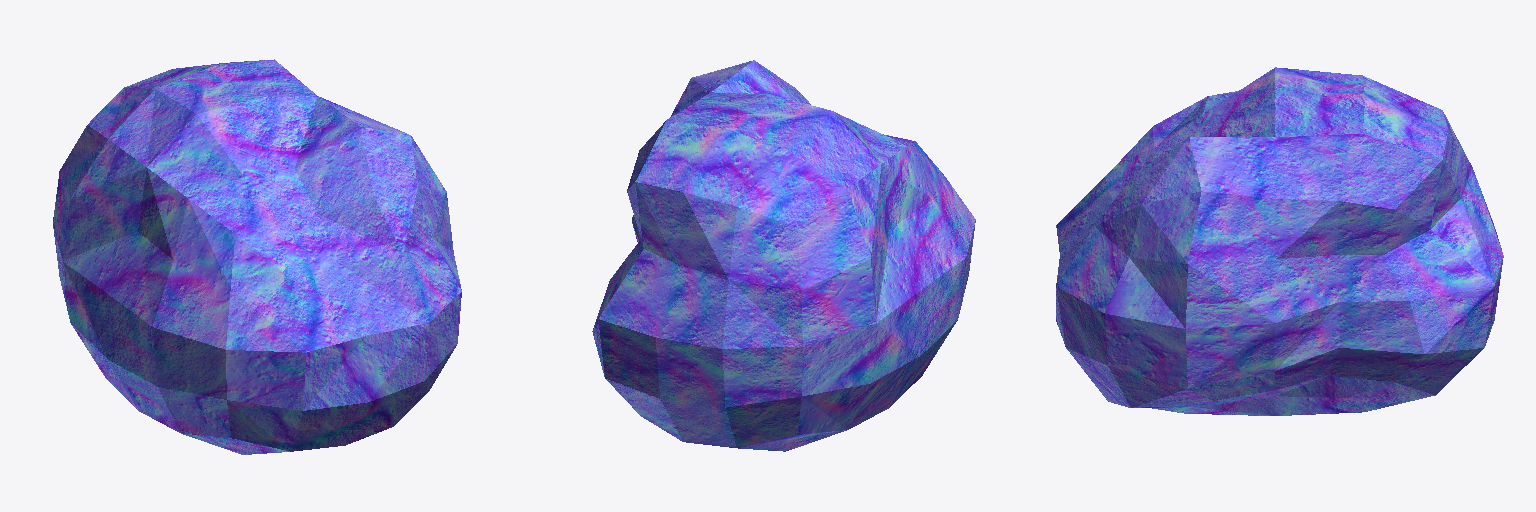
The picture shows the model from 3 angles: view 1: azimuth 30°, elevation 25°; view 2: azimuth 150°, elevation 25°; view 3: azimuth 270°, elevation 25°; orthographic projection.
Parts seen in each view (by area): view 1: Cube_Cube.001; view 2: Cube_Cube.001; view 3: Cube_Cube.001.
Boxes of the visible parts, box(x1,y1,x2,y2) form: Cube_Cube.001: box(53, 59, 461, 454); Cube_Cube.001: box(592, 60, 975, 451); Cube_Cube.001: box(1056, 67, 1503, 415).
Size of the model in its own units: 3.91 by 3.96 by 5.02.
Materials: 1 (1 with a texture image).